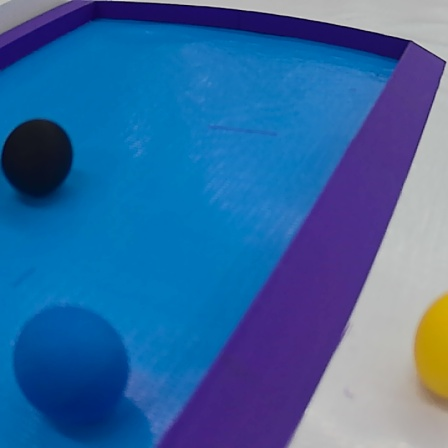black: (0, 110, 78, 200)
blue: (12, 305, 135, 425)
blue_aim: (2, 2, 445, 448)
